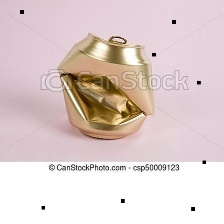can: (52, 27, 163, 148)
